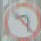Don't turn left: (4, 2, 39, 40)
